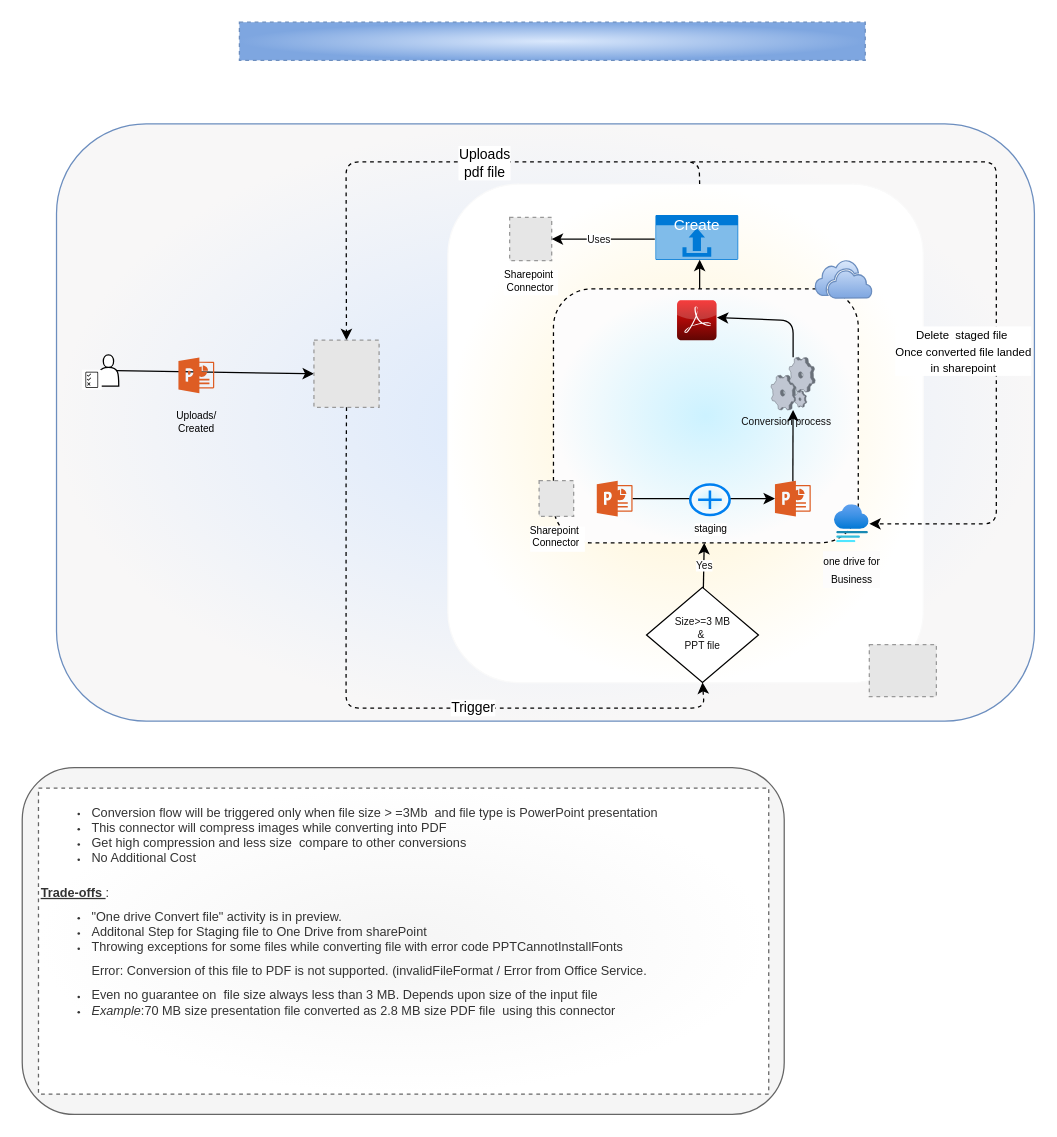
Image size: 1057x1137. Some labels were removed from this diagram. Grey dashed boxes stand in for pictures. The centre of each missing label's shape, as x and y in pixels:
"one drive for Business connector" goes at (843,278).
"Pdf file in base64 format" goes at (696,319).
"Permissions" goes at (91,379).
"PPT -PDF file conversion with One drive Connector" goes at (551,40).
